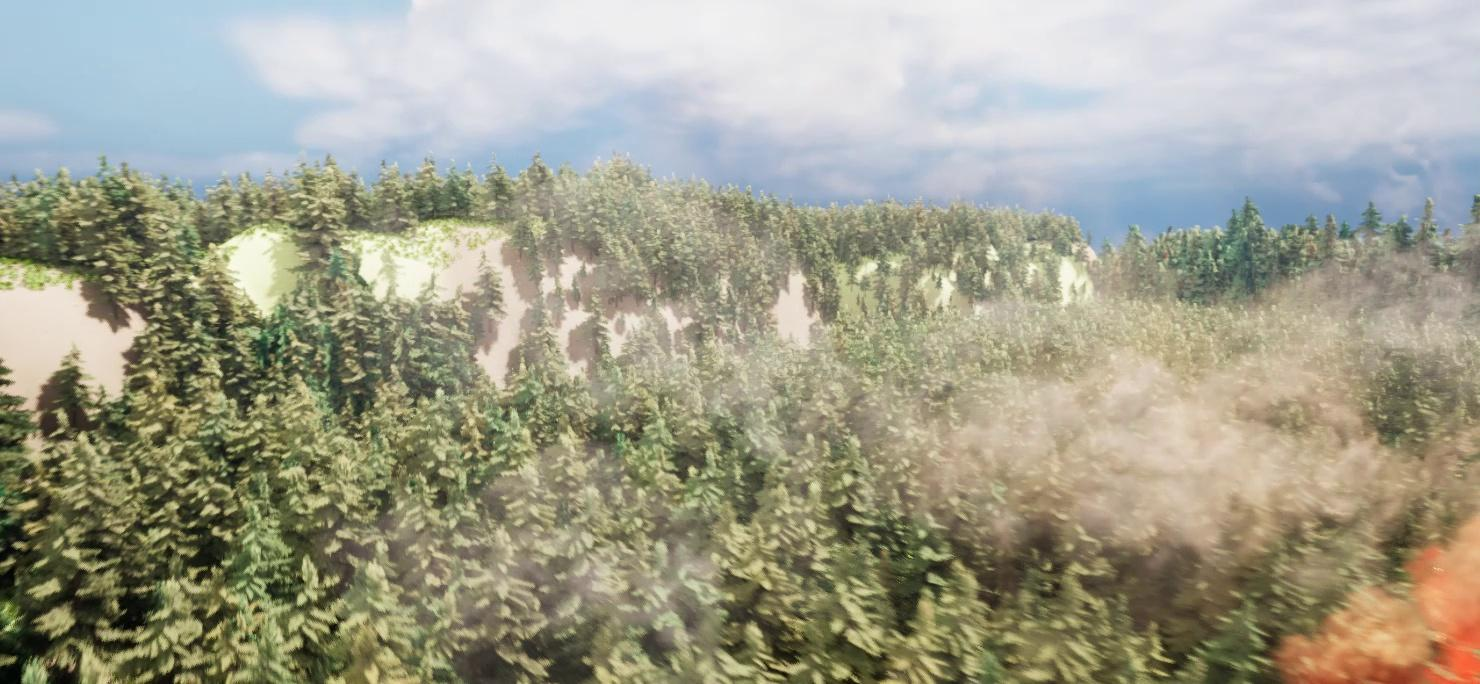fire: (1272, 519, 1479, 683)
smoke: (403, 173, 1477, 634)
